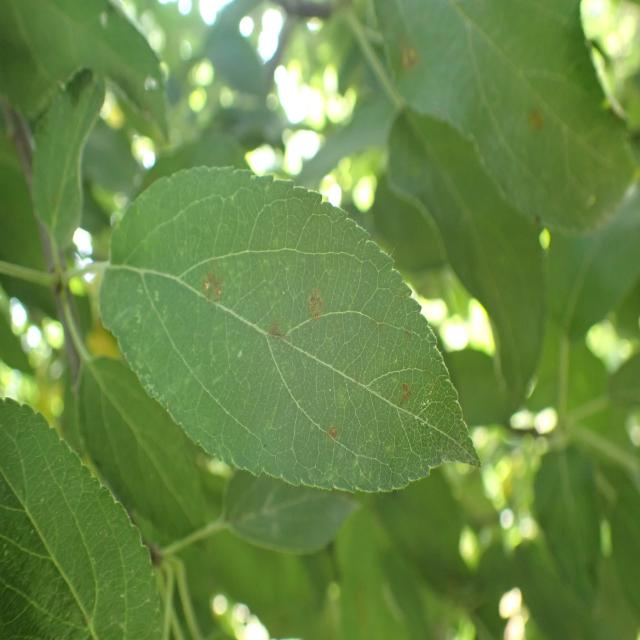scab: (130, 217, 428, 475), (372, 12, 585, 199)
